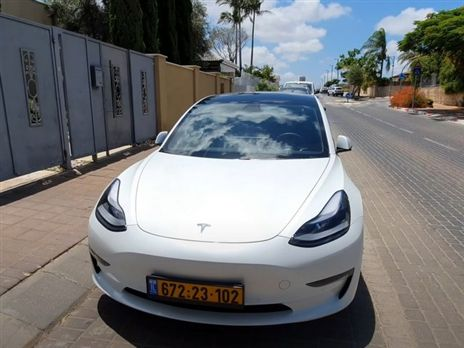licence: (144, 274, 246, 308)
